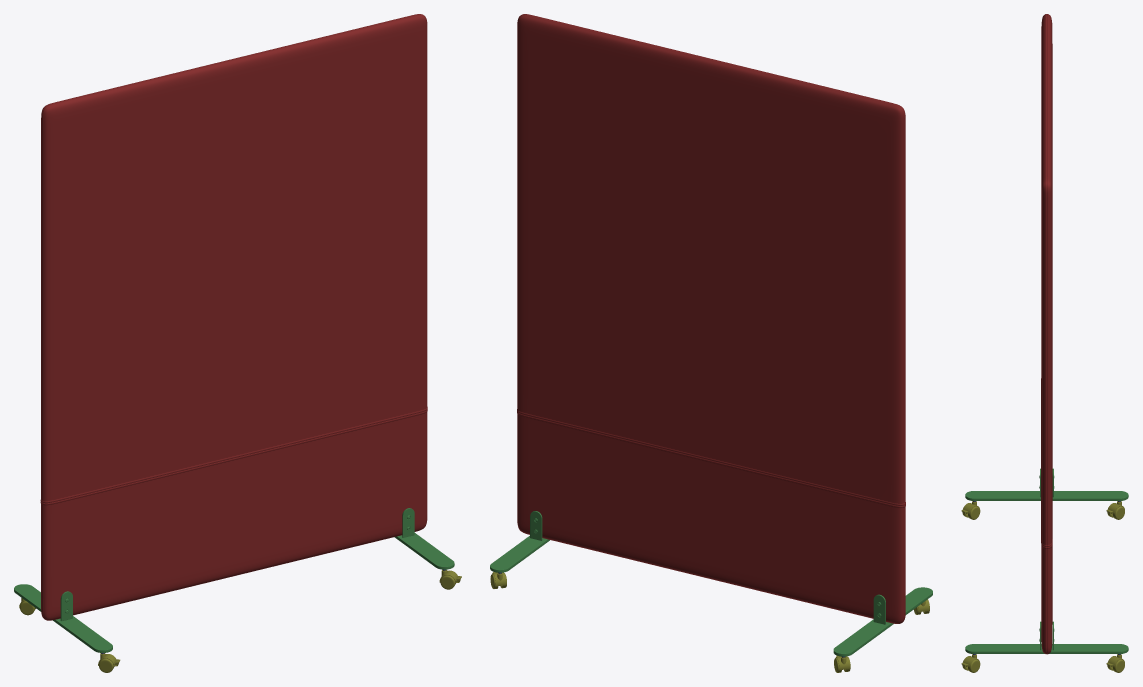
File: SM_Akustiktrennwand.fbx
3 renders of one model, left to right at view 1: azimuth 30°, elevation 25°; view 2: azimuth 150°, elevation 25°; view 3: azimuth 270°, elevation 25°, orthographic. The views are drawn at different scales.
Visible parts, largest first — view 1: SM_Akustiktrennwand; view 2: SM_Akustiktrennwand; view 3: SM_Akustiktrennwand.
Boxes of the visible parts, bbox=[...] form: SM_Akustiktrennwand: bbox=[14, 14, 461, 672]; SM_Akustiktrennwand: bbox=[490, 14, 932, 672]; SM_Akustiktrennwand: bbox=[961, 14, 1128, 672].
Size of the model in its own units: 147 by 196 by 59.99.
